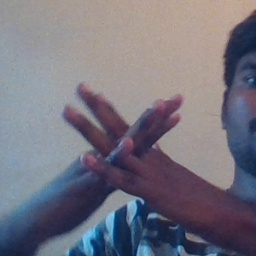W: (47, 73, 200, 221)
